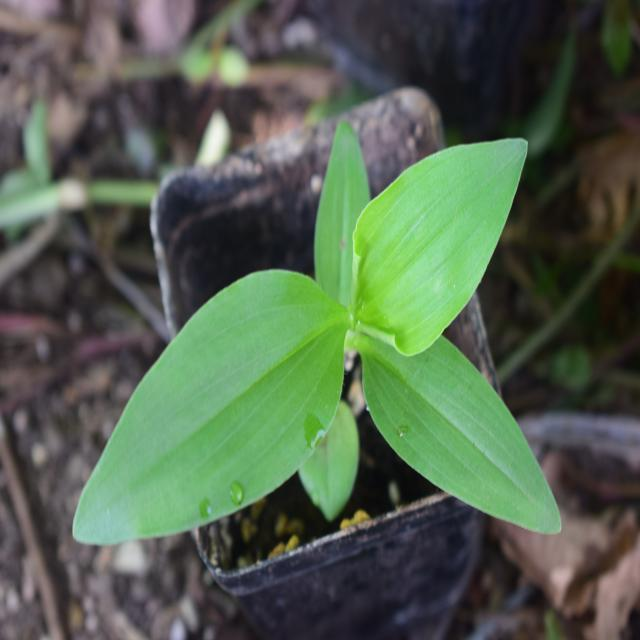Common Dayflower: (53, 109, 561, 586)
